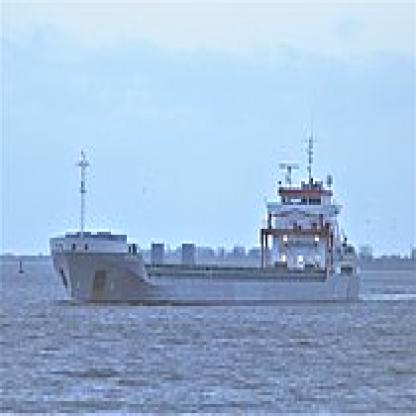Tanker: (49, 184, 374, 309)
